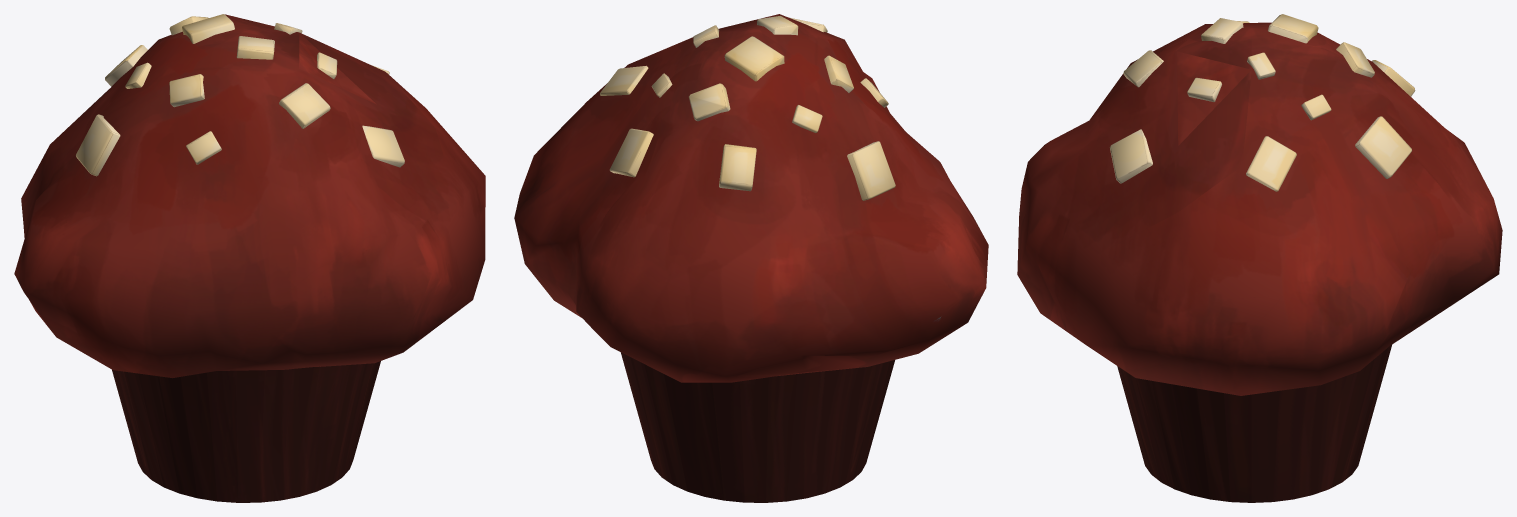
The model's file is Muffin 1.fbx.
3 views of the same model, side by side, from view 1: azimuth 30°, elevation 25°; view 2: azimuth 150°, elevation 25°; view 3: azimuth 270°, elevation 25° (orthographic).
Visible parts, largest first — view 1: Cylinder, Cylinder.002, Cube.003; view 2: Cylinder, Cylinder.002, Cube.003; view 3: Cylinder, Cylinder.002, Cube.003.
Boxes of the visible parts, bbox=[...] form: Cylinder: bbox=[14, 14, 485, 378]; Cylinder.002: bbox=[112, 361, 380, 502]; Cube.003: bbox=[76, 14, 404, 176]; Cylinder: bbox=[514, 14, 988, 382]; Cylinder.002: bbox=[621, 352, 894, 502]; Cube.003: bbox=[600, 16, 895, 200]; Cylinder: bbox=[1017, 22, 1502, 395]; Cylinder.002: bbox=[1117, 345, 1391, 502]; Cube.003: bbox=[1110, 14, 1415, 191].
Size of the model in its own units: 580 by 549 by 560.
